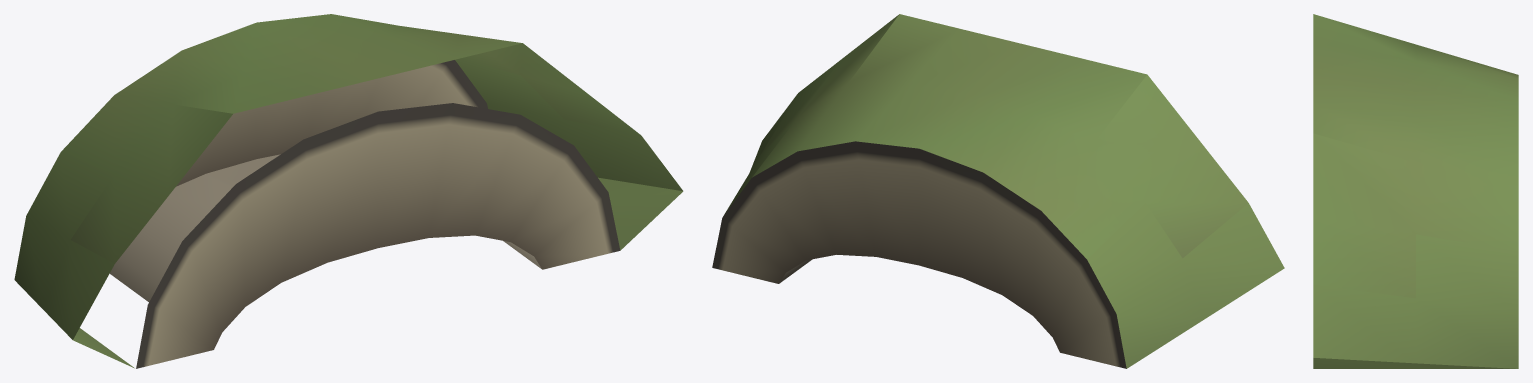
Rendered from log_tunnel_mouth.glb.
3 views of the same model, side by side, from view 1: azimuth 30°, elevation 25°; view 2: azimuth 150°, elevation 25°; view 3: azimuth 270°, elevation 25° (orthographic). The views are drawn at different scales.
Visible parts, largest first — view 1: log_tunnel_mouth; view 2: log_tunnel_mouth; view 3: log_tunnel_mouth.
Boxes of the visible parts, left/top/right/bottom form: log_tunnel_mouth: left=14, top=14, right=683, bottom=368; log_tunnel_mouth: left=712, top=14, right=1284, bottom=368; log_tunnel_mouth: left=1313, top=14, right=1518, bottom=368.
Bounding box in the file's own units: 2.9 × 1.05 × 1.
